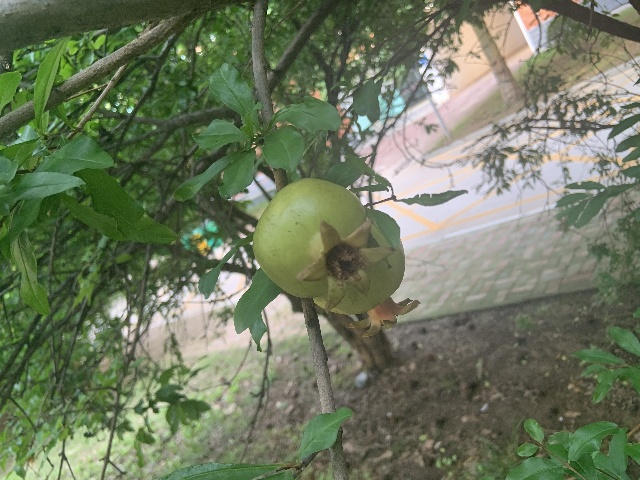mid-growth: (252, 178, 395, 315), (313, 224, 421, 337)
